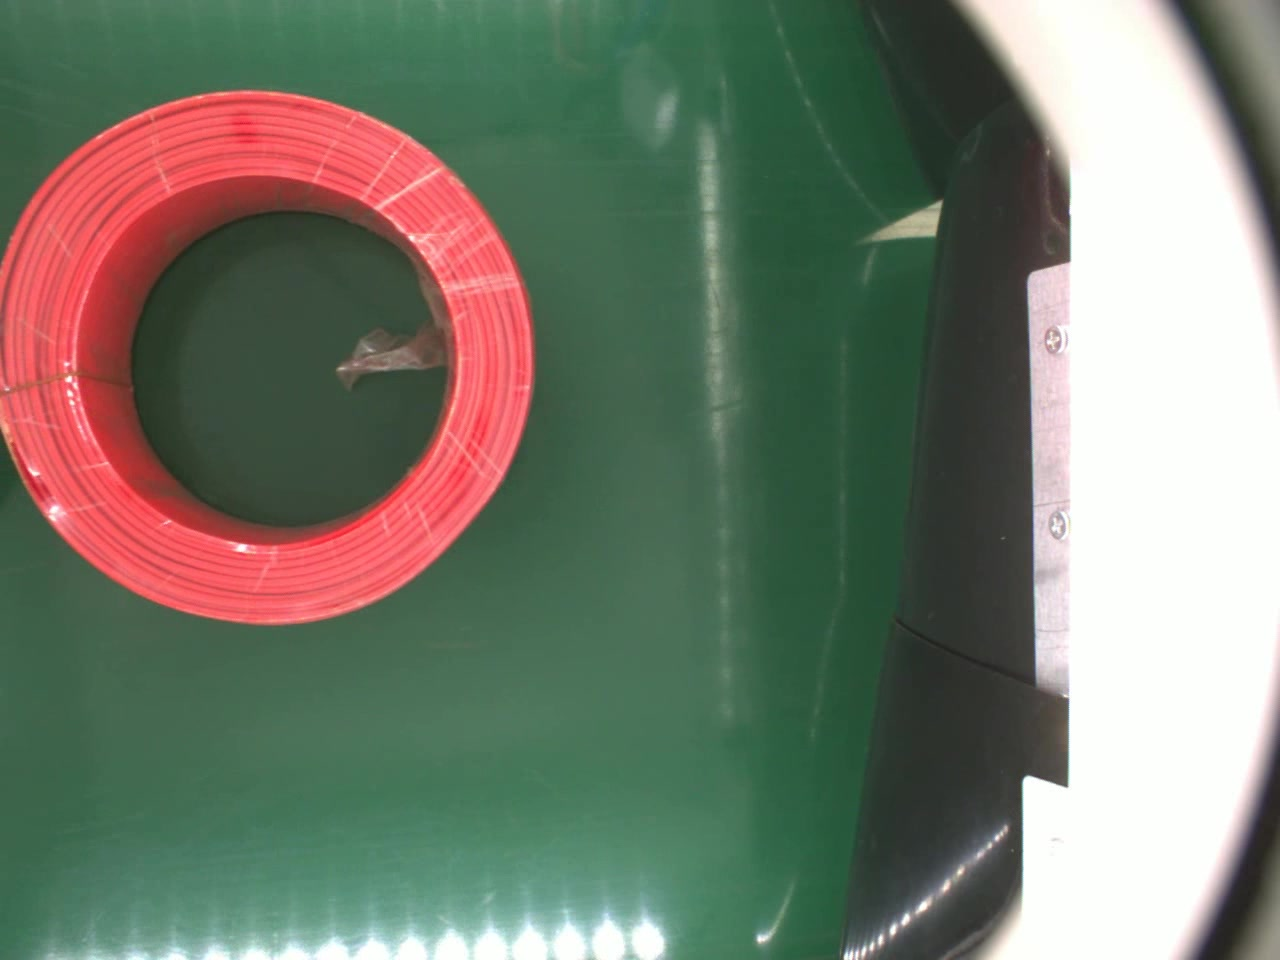red: (3, 85, 531, 631)
